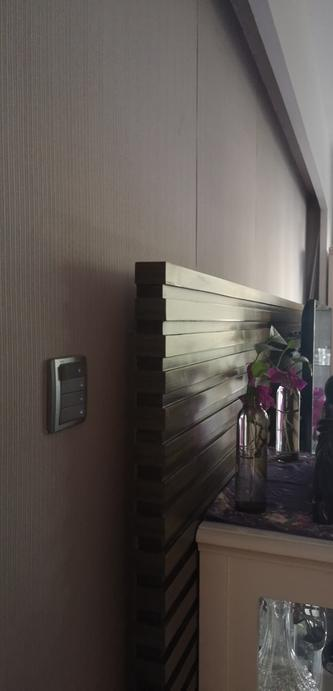switch: (59, 411, 111, 425), (53, 361, 93, 377), (61, 382, 97, 393), (58, 401, 103, 407)
